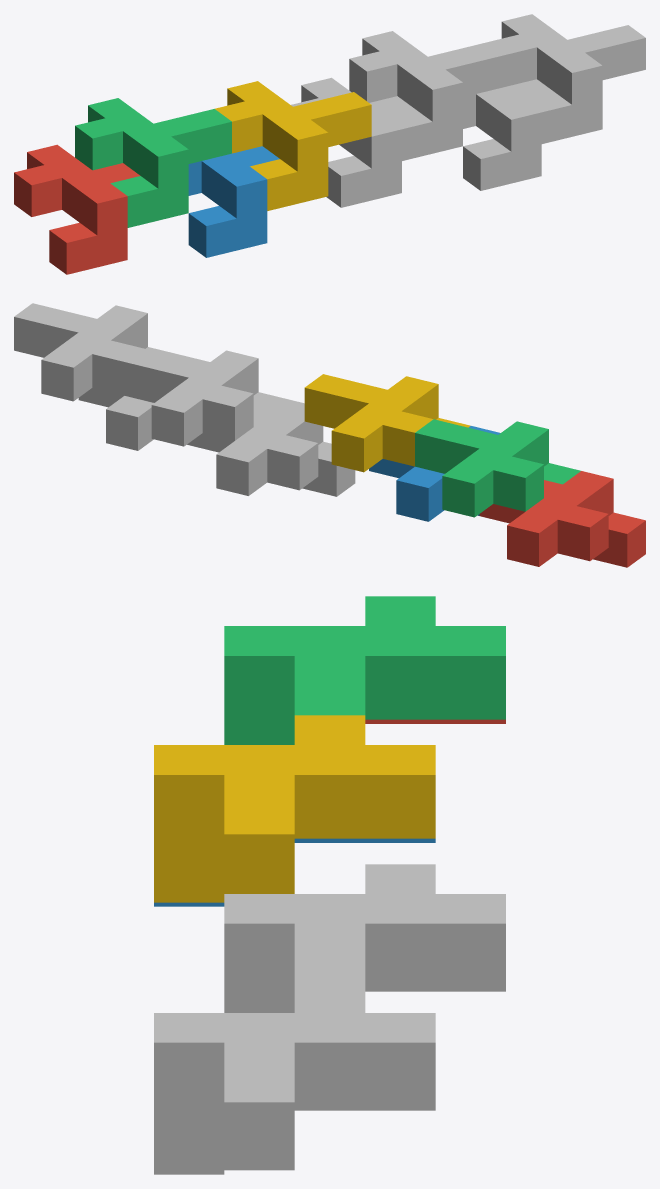
The model's file is tiling.obj.
3 renders of one model, top to bottom at view 1: azimuth 30°, elevation 25°; view 2: azimuth 150°, elevation 25°; view 3: azimuth 270°, elevation 25°, orthographic. The views are drawn at different scales.
Parts seen in each view (by area): view 1: copy_1_domain_3, copy_1_domain_7, copy_1_domain_8, copy_1_domain_4, copy_1_domain_1, copy_1_domain_2, copy_1_domain_6, copy_1_domain_5; view 2: copy_1_domain_7, copy_1_domain_3, copy_1_domain_1, copy_1_domain_4, copy_1_domain_8, copy_1_domain_5, copy_1_domain_2, copy_1_domain_6; view 3: copy_1_domain_8, copy_1_domain_4, copy_1_domain_3, copy_1_domain_7, copy_1_domain_6, copy_1_domain_2.
Part boxes in pixels (x1=…): copy_1_domain_3: x1=75, y1=98, x2=231, y2=227; copy_1_domain_7: x1=349, y1=31, x2=506, y2=160; copy_1_domain_8: x1=489, y1=14, x2=645, y2=143; copy_1_domain_4: x1=215, y1=81, x2=371, y2=210; copy_1_domain_1: x1=14, y1=144, x2=140, y2=274; copy_1_domain_2: x1=188, y1=146, x2=279, y2=257; copy_1_domain_6: x1=463, y1=79, x2=553, y2=190; copy_1_domain_5: x1=291, y1=77, x2=414, y2=207; copy_1_domain_7: x1=124, y1=348, x2=290, y2=446; copy_1_domain_3: x1=415, y1=419, x2=580, y2=517; copy_1_domain_1: x1=479, y1=471, x2=645, y2=567; copy_1_domain_4: x1=304, y1=374, x2=470, y2=472; copy_1_domain_8: x1=14, y1=303, x2=179, y2=401; copy_1_domain_5: x1=189, y1=400, x2=355, y2=496; copy_1_domain_2: x1=369, y1=426, x2=500, y2=521; copy_1_domain_6: x1=78, y1=355, x2=209, y2=450; copy_1_domain_8: x1=154, y1=983, x2=435, y2=1170; copy_1_domain_4: x1=154, y1=715, x2=435, y2=902; copy_1_domain_3: x1=224, y1=596, x2=505, y2=744; copy_1_domain_7: x1=224, y1=864, x2=505, y2=1012; copy_1_domain_6: x1=154, y1=1106, x2=435, y2=1174; copy_1_domain_2: x1=154, y1=838, x2=435, y2=906.
Size of the model in its own units: 19 by 3 by 5.
